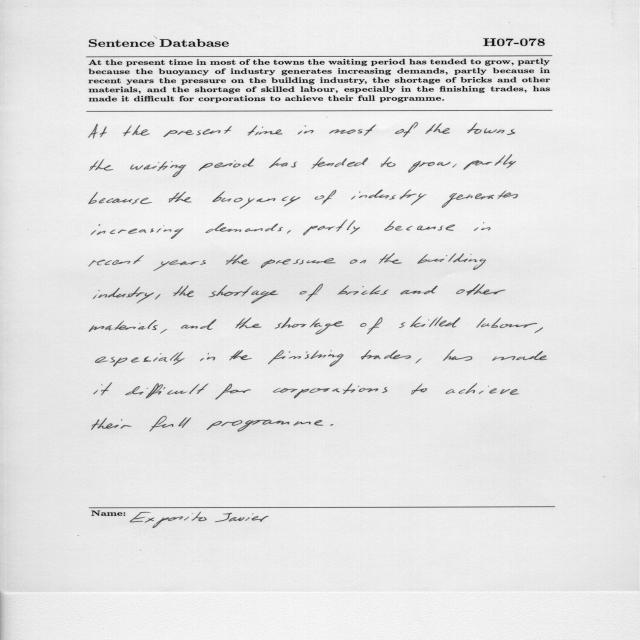word: (273, 383, 387, 398), (213, 191, 301, 209), (207, 420, 323, 432), (441, 190, 518, 208), (91, 224, 183, 239), (96, 352, 185, 367), (268, 350, 344, 367), (125, 383, 209, 398), (209, 285, 278, 303), (275, 317, 344, 335), (351, 190, 426, 206), (418, 253, 486, 270), (93, 287, 154, 304), (130, 161, 186, 177), (446, 383, 519, 395), (303, 220, 360, 235), (89, 320, 158, 332), (463, 155, 516, 170), (384, 220, 455, 231), (205, 223, 283, 233), (89, 192, 152, 204), (261, 258, 336, 268), (164, 126, 232, 137), (399, 316, 460, 328), (199, 158, 255, 171), (311, 157, 368, 169), (89, 255, 144, 267), (150, 416, 192, 431), (477, 318, 538, 328), (153, 260, 206, 271), (467, 123, 515, 135), (215, 384, 251, 400), (329, 124, 376, 136), (456, 284, 506, 295), (492, 351, 547, 361), (408, 161, 451, 173), (338, 285, 389, 295), (361, 350, 411, 360), (92, 418, 132, 430), (299, 284, 323, 301), (181, 319, 216, 330), (360, 317, 382, 334), (248, 126, 283, 136), (395, 122, 418, 137), (401, 286, 438, 295), (443, 350, 472, 361), (315, 190, 336, 205), (269, 157, 297, 168), (123, 125, 150, 136), (236, 318, 262, 329), (88, 124, 107, 139), (90, 159, 113, 171), (425, 123, 450, 134), (378, 253, 402, 264), (169, 192, 192, 203), (226, 254, 249, 265), (173, 286, 194, 297), (229, 350, 252, 360), (94, 383, 112, 395), (411, 384, 428, 395), (474, 222, 491, 231), (381, 157, 396, 167), (298, 126, 314, 135), (200, 353, 215, 361), (350, 259, 366, 264), (535, 327, 543, 333), (155, 294, 160, 300), (416, 359, 422, 364), (160, 329, 167, 333), (452, 164, 457, 168), (287, 230, 291, 234), (331, 424, 334, 426)
